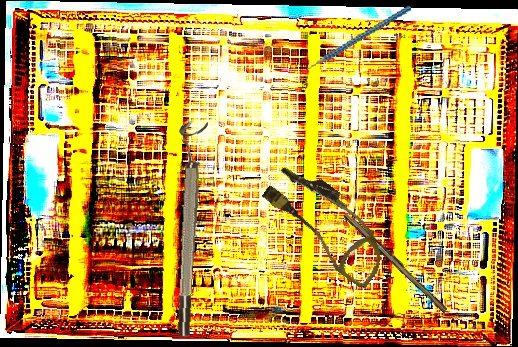Cannula: (252, 156, 402, 291)
Chopper: (287, 5, 422, 84)
Fixation Ring: (164, 120, 209, 338)
Scalpel Handle: (341, 210, 451, 314)
